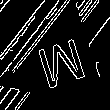M_S: (33, 34, 91, 96)
